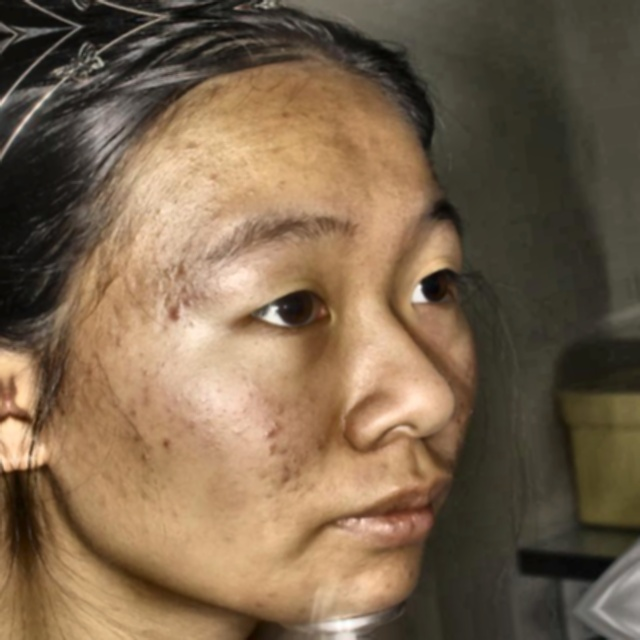comedone: (251, 417, 295, 461), (159, 296, 191, 332), (268, 461, 302, 490)
